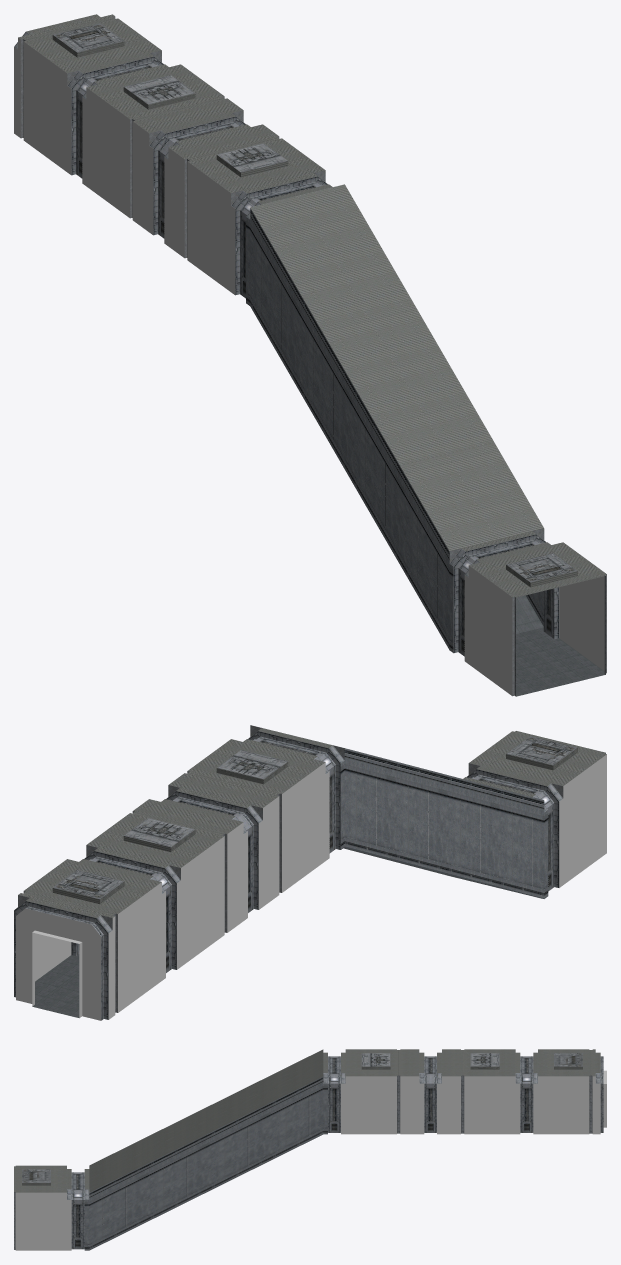
Rendered from poi_all_impl_bunker_warren_s01_r68_hall68_mesh_r68.fbx.
3 renders of one model, top to bottom at view 1: azimuth 30°, elevation 25°; view 2: azimuth 150°, elevation 25°; view 3: azimuth 270°, elevation 25°, orthographic. The views are drawn at different scales.
Parts seen in each view (by area): view 1: mesh_node; view 2: mesh_node; view 3: mesh_node.
Part boxes in pixels (x1=…): mesh_node: x1=14, y1=14, x2=606, y2=696; mesh_node: x1=14, y1=725, x2=606, y2=1020; mesh_node: x1=14, y1=1049, x2=606, y2=1250.
Bounding box in the file's own units: 4 × 12.2 × 37.
